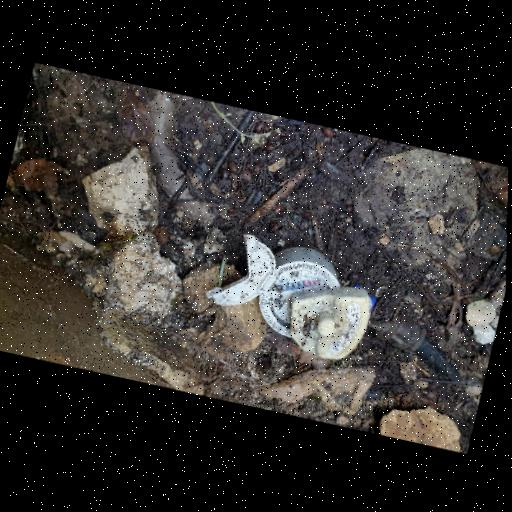0: (280, 283, 288, 291), (312, 276, 320, 284)
2: (307, 278, 315, 286)
3: (286, 282, 294, 290), (296, 280, 304, 288)
5: (302, 279, 310, 287)
9: (291, 281, 299, 289)
border_water_meter_number: (273, 268, 322, 302)
